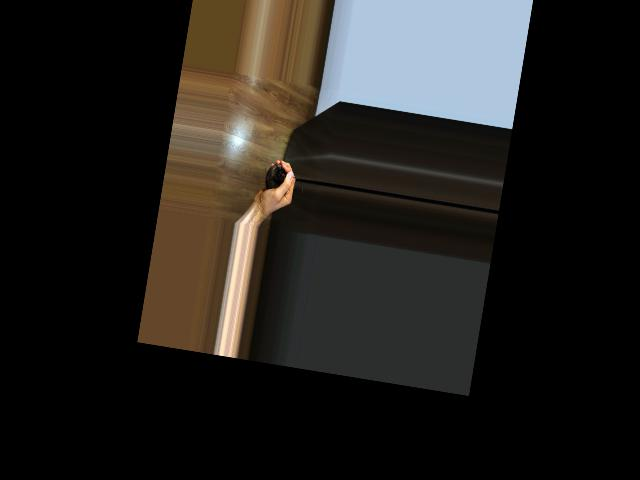beet: (263, 161, 306, 194)
